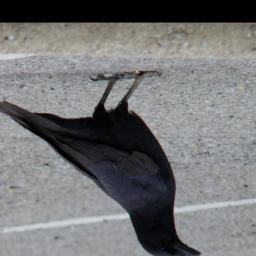Crow: (0, 71, 203, 256)
